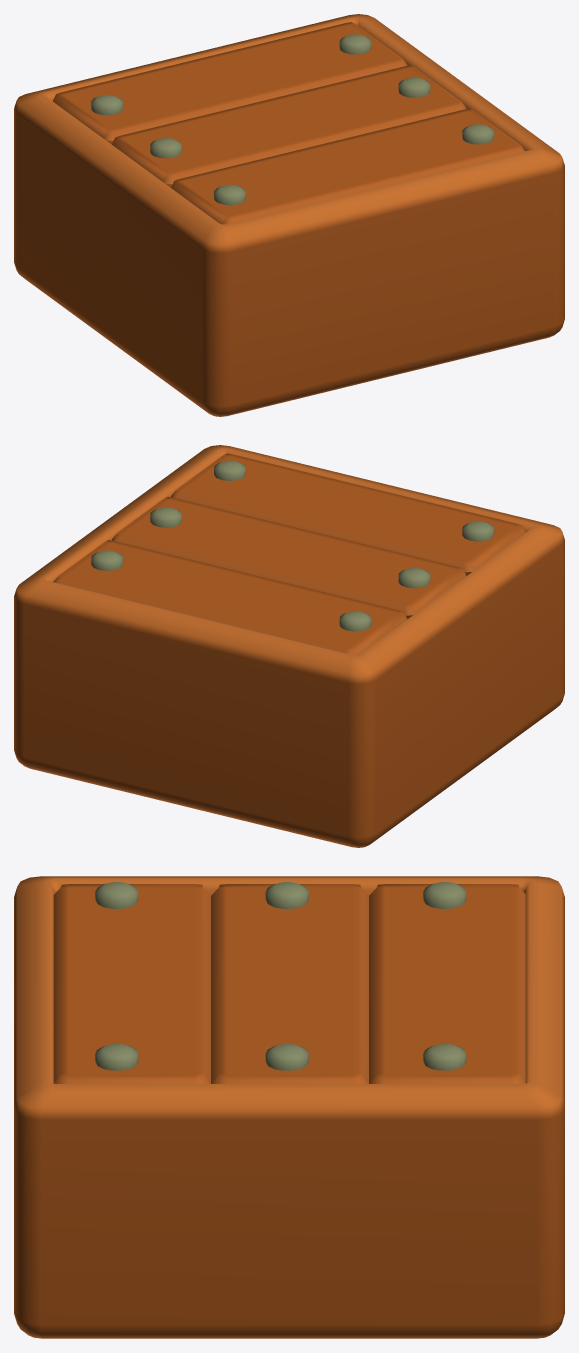
Rendered from Wooden_Crate_2x2.fbx.
3 views of the same model, one above another, from view 1: azimuth 30°, elevation 25°; view 2: azimuth 150°, elevation 25°; view 3: azimuth 270°, elevation 25° (orthographic). The views are drawn at different scales.
Parts seen in each view (by area): view 1: Wooden Crate 2x2; view 2: Wooden Crate 2x2; view 3: Wooden Crate 2x2.
Boxes of the visible parts, bbox=[...] form: Wooden Crate 2x2: bbox=[14, 14, 564, 416]; Wooden Crate 2x2: bbox=[14, 445, 564, 847]; Wooden Crate 2x2: bbox=[14, 876, 564, 1338].
Bounding box in the file's own units: 200 × 104 × 199.
